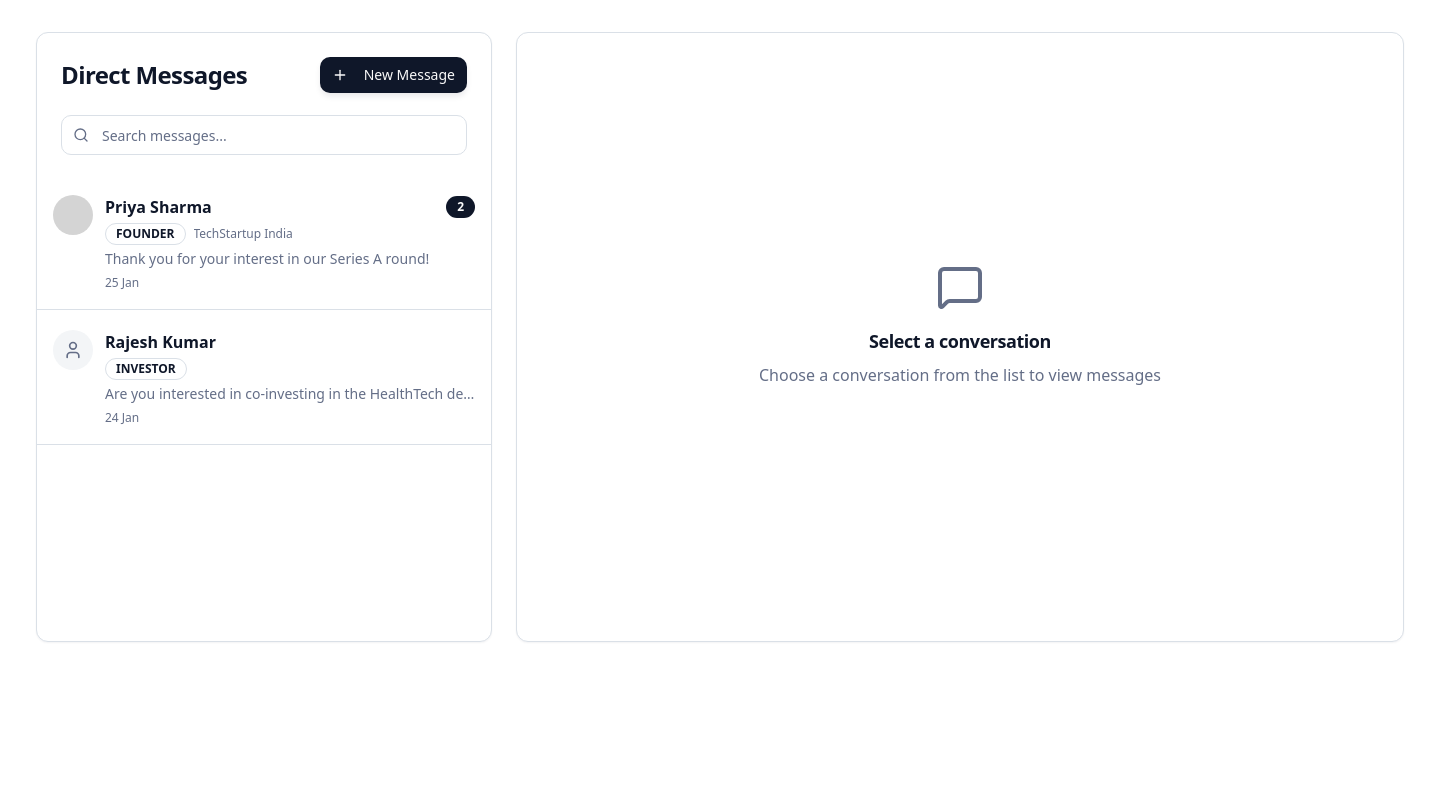
US-INVESTOR-014: Send Direct Messages › Start New Conversation › should allow starting a new conversation
Click the button "New Message". click: (393, 75)
box: [320,57,467,93]
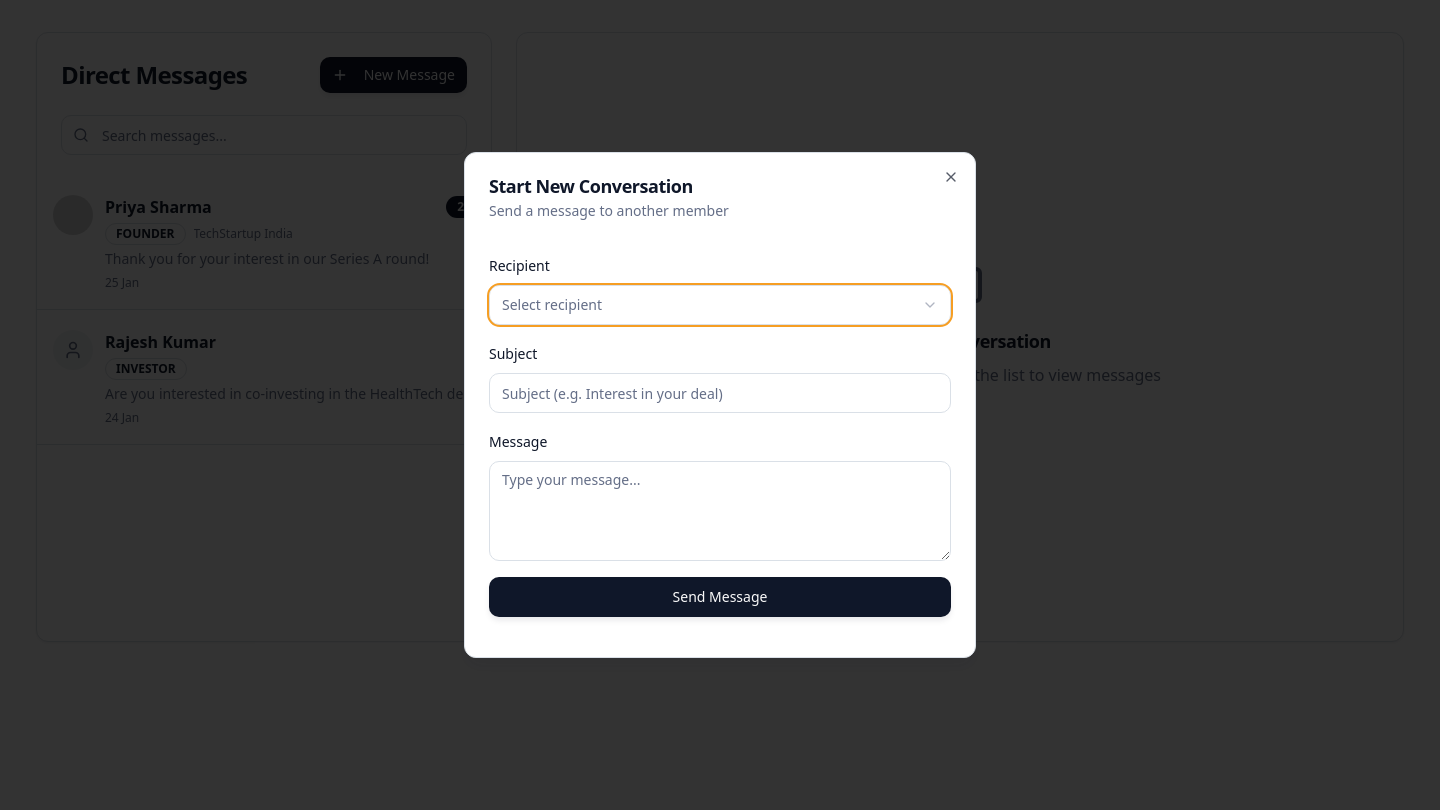
expect the heading "Start New Conversation" is shown: met, box [489,174,693,198]
